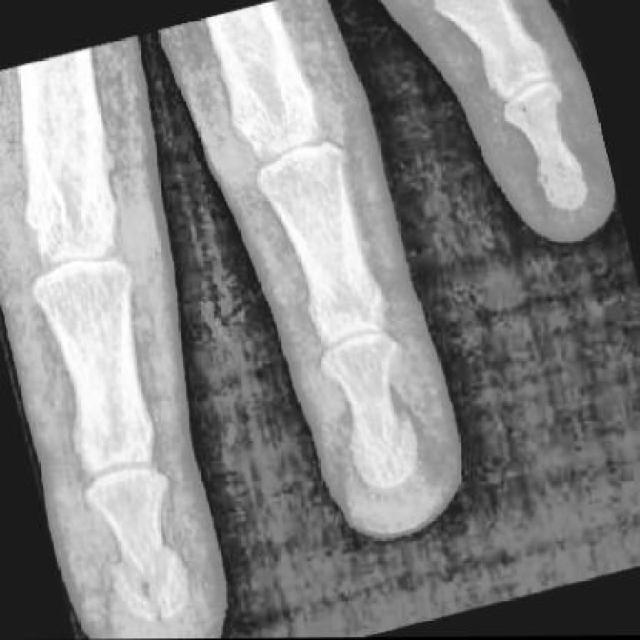Fracture: (336, 402, 434, 509), (94, 539, 194, 640)
